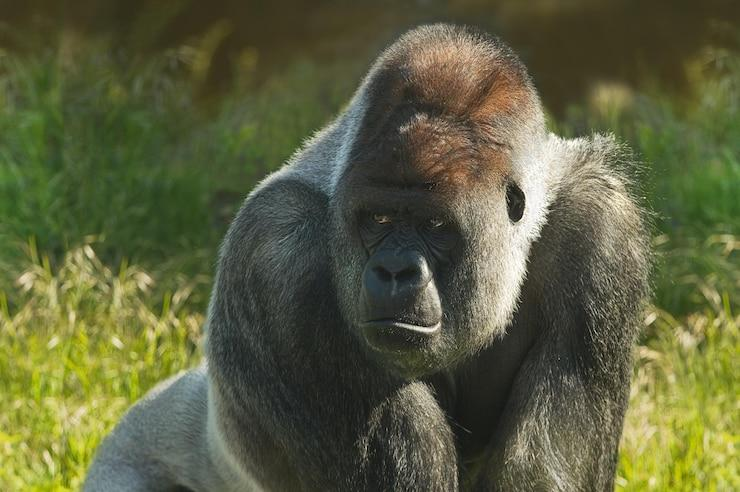gorille_Autres: (110, 1, 632, 492)
